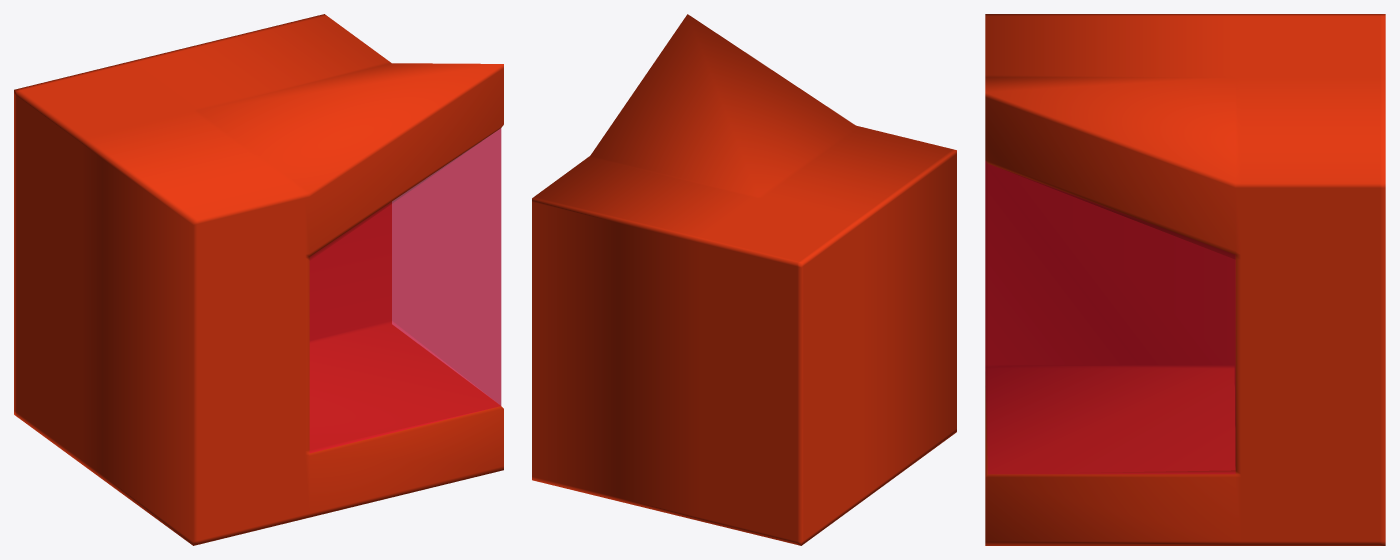
File: gimmickSpear.fbx
3 renders of one model, left to right at view 1: azimuth 30°, elevation 25°; view 2: azimuth 150°, elevation 25°; view 3: azimuth 270°, elevation 25°, orthographic. The views are drawn at different scales.
Parts seen in each view (by area): view 1: Cube; view 2: Cube; view 3: Cube.
Part boxes in pixels (<box>): Cube: <box>14,14,503,545</box>; Cube: <box>532,14,956,545</box>; Cube: <box>985,14,1385,545</box>.
Bounding box in the file's own units: 20000 × 25000 × 20000.
